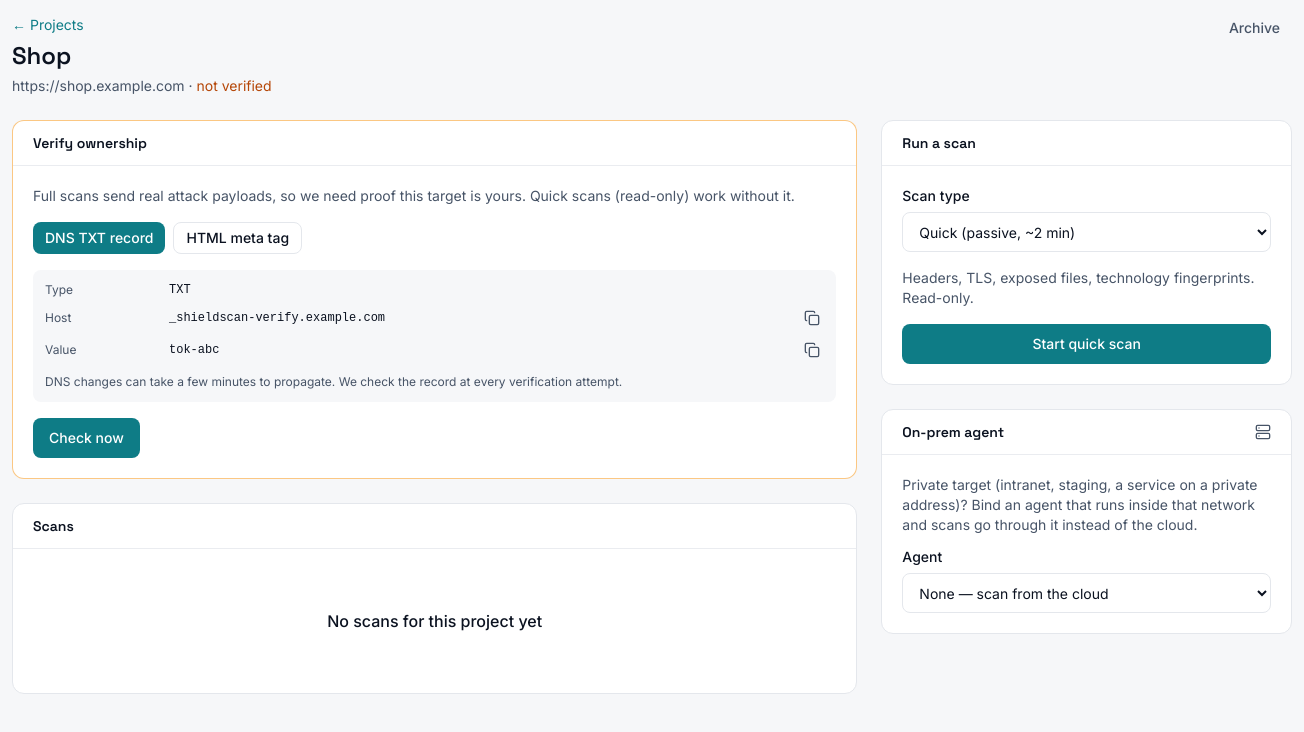
Test case: <ProjectDetail /> unverified › shows the TXT record and blocks full scans but allows quick
Expected: the text "_shieldscan-verify.example.com" is shown, [169, 311, 385, 325]
Expected: the text "tok-abc" is shown, [169, 343, 219, 357]
Select "Full web (all DAST engines)" in the dropdown labelled "Scan type": point(1087, 232) [902, 212, 1271, 252]
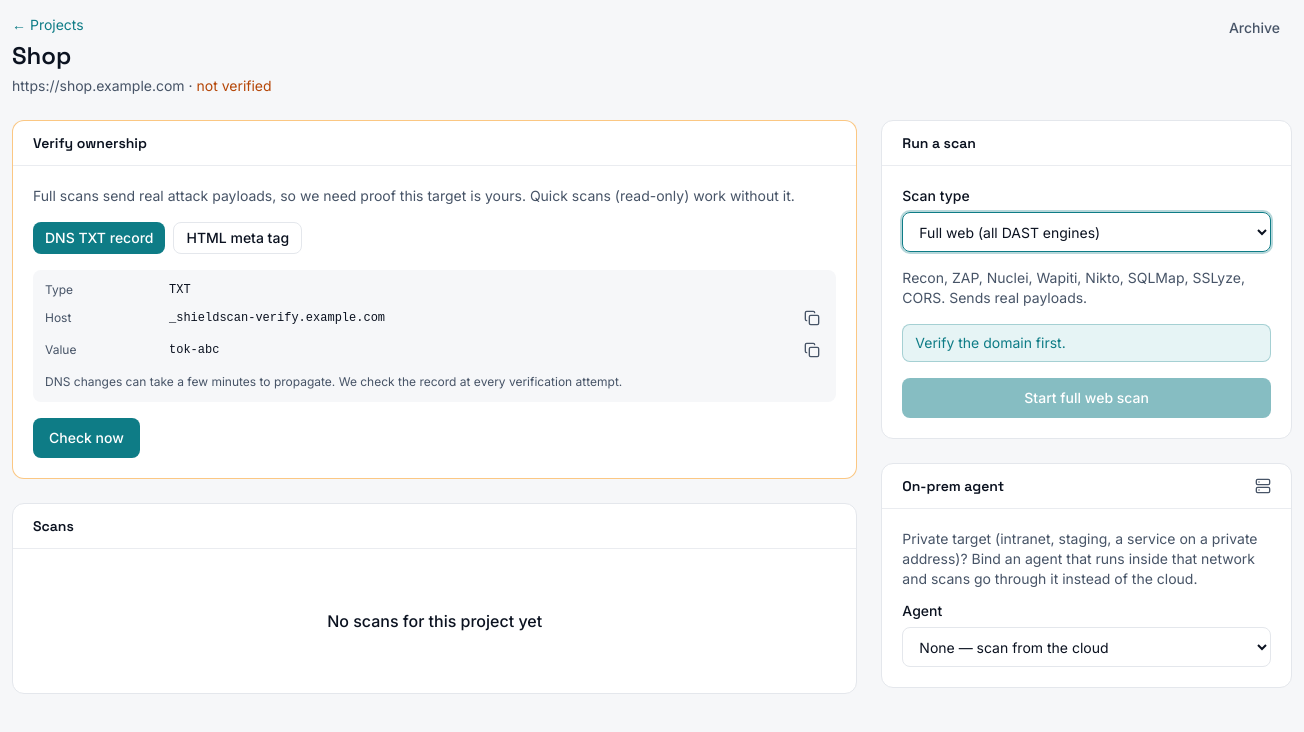
Expected: the text "Verify the domain first." is shown, [902, 324, 1271, 362]
Expected: the button "Start full web scan" is disabled, [902, 378, 1271, 418]
